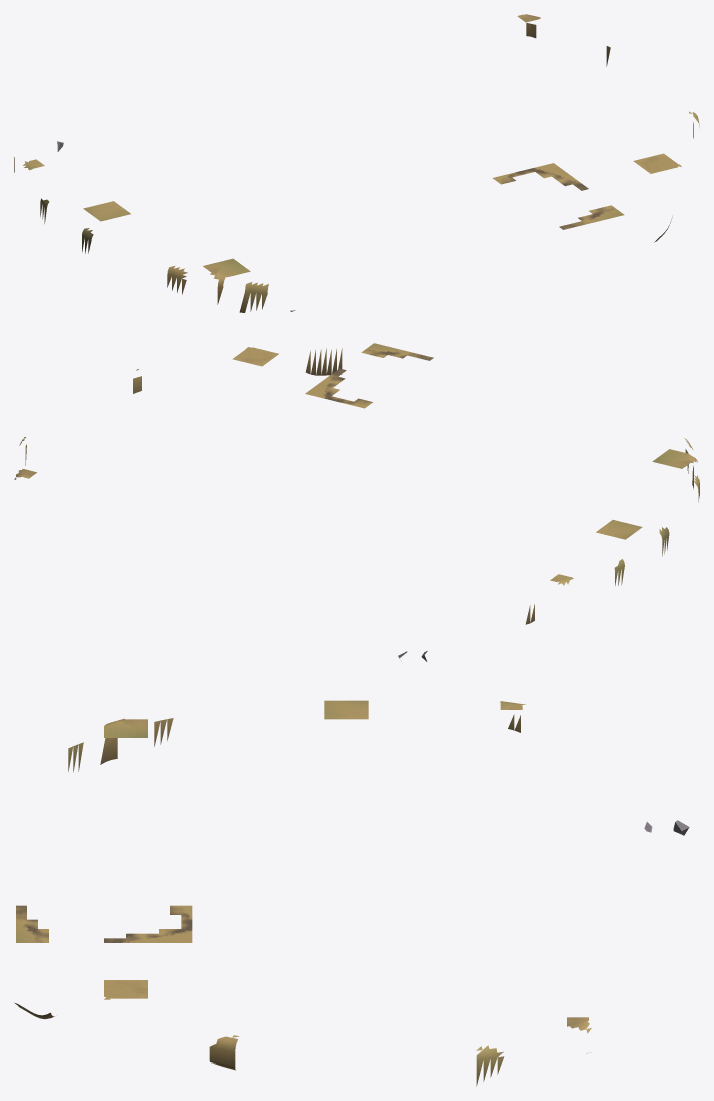
3 renders of one model, top to bottom at view 1: azimuth 30°, elevation 25°; view 2: azimuth 150°, elevation 25°; view 3: azimuth 270°, elevation 25°, orthographic. The views are drawn at different scales.
Visible parts, largest first — view 1: Grass_1_-3_0, Grass_-4_-3_0_000, Grass_1_-4_0, Grass_3_-3_0_000, Grass_-5_-1_0_110, Grass_-4_-4_0_010_100; view 2: Grass_1_-3_0, Grass_-4_-3_0_000, Grass_2_-4_0_101, Grass_1_-4_0, Grass_3_-3_0_000, Grass_-5_-1_0_110; view 3: Grass_1_-3_0, Grass_-4_-3_0_000, Grass_-5_-1_0_110, Grass_3_-3_0_000, Grass_1_-4_0, Grass_4_-2_0_100, Grass_4_1_0_100_110.
Part boxes in pixels (x1,y1,x2,y2): Grass_1_-3_0: (492,163,588,190); Grass_-4_-3_0_000: (203,258,250,304); Grass_1_-4_0: (559,205,624,229); Grass_3_-3_0_000: (633,153,681,173); Grass_-5_-1_0_110: (83,201,130,221); Grass_-4_-4_0_010_100: (245,282,268,312); Grass_1_-3_0: (305,368,372,408); Grass_-4_-3_0_000: (652,449,697,489); Grass_2_-4_0_101: (305,348,342,375); Grass_1_-4_0: (361,343,433,360); Grass_3_-3_0_000: (232,347,278,366); Grass_-5_-1_0_110: (596,520,642,539); Grass_1_-3_0: (104,905,192,942); Grass_-4_-3_0_000: (100,719,147,764); Grass_-5_-1_0_110: (324,700,368,719); Grass_3_-3_0_000: (104,980,147,999); Grass_1_-4_0: (16,905,48,942); Grass_4_-2_0_100: (209,1035,239,1070); Grass_4_1_0_100_110: (476,1045,504,1086).
Bounding box in the file's own units: 619 × 65.24 × 498.
Materials: 20 (20 with a texture image).
